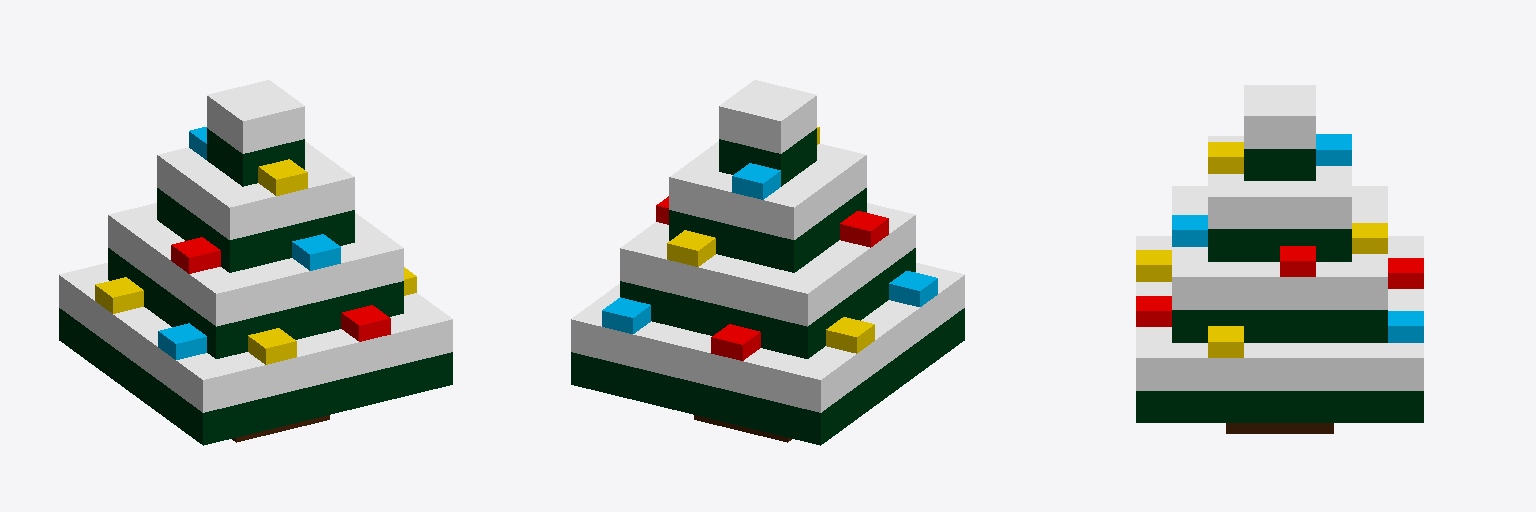
The picture shows the model from 3 angles: view 1: azimuth 30°, elevation 25°; view 2: azimuth 150°, elevation 25°; view 3: azimuth 270°, elevation 25°; orthographic projection.
Visible parts, largest first — view 1: object 1; view 2: object 1; view 3: object 1.
Part boxes in pixels (left/top/right/bottom): object 1: left=59, top=80, right=452, bottom=445; object 1: left=571, top=80, right=964, bottom=445; object 1: left=1136, top=85, right=1423, bottom=433.
Size of the model in its own units: 1.6 by 1.9 by 1.6.
Materials: 1 (1 with a texture image).